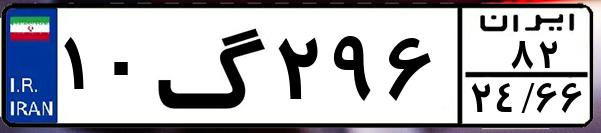0: (110, 28, 156, 98)
1: (57, 26, 110, 100)
2: (270, 28, 330, 110), (537, 27, 568, 80), (470, 70, 495, 125)
4: (495, 70, 520, 125)
6: (385, 28, 445, 110), (560, 70, 590, 125), (535, 70, 560, 125)
8: (508, 27, 537, 80)
9: (330, 28, 385, 110)
گ: (156, 12, 270, 120)
